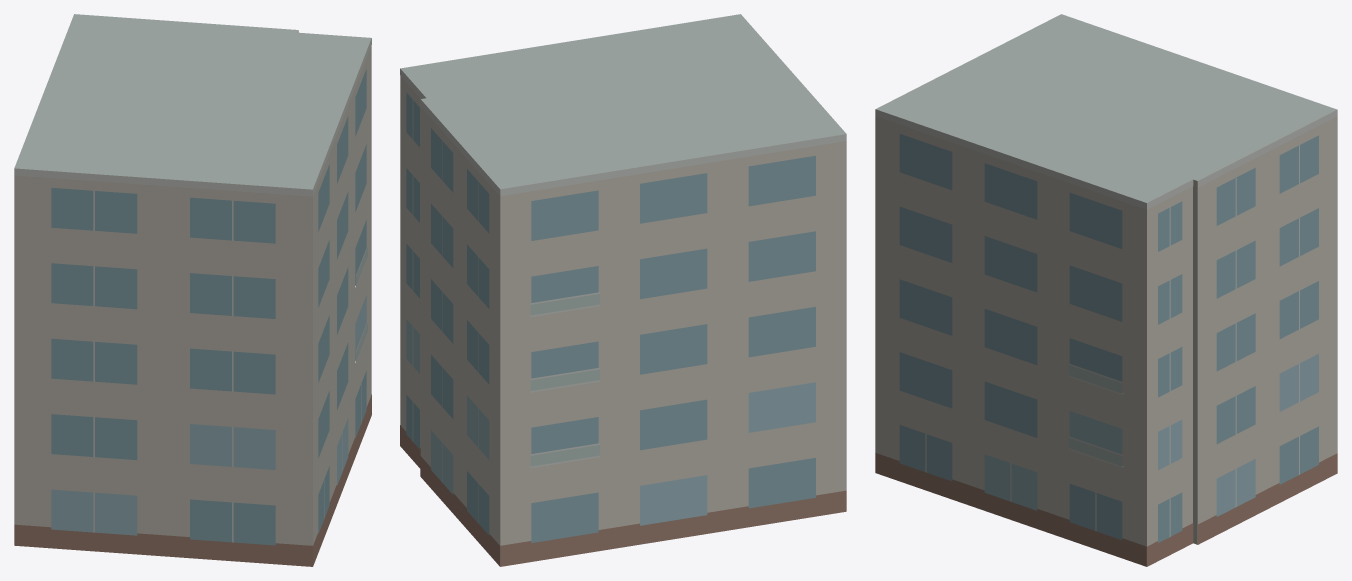
File: survey-upis-32944124.glb
3 views of the same model, side by side, from view 1: azimuth 30°, elevation 25°; view 2: azimuth 150°, elevation 25°; view 3: azimuth 270°, elevation 25° (orthographic). The views are drawn at different scales.
Parts seen in each view (by area): view 1: survey-upis-32944124.tmp; view 2: survey-upis-32944124.tmp; view 3: survey-upis-32944124.tmp.
Boxes of the visible parts, left/top/right/bottom form: survey-upis-32944124.tmp: left=14, top=14, right=371, bottom=566; survey-upis-32944124.tmp: left=400, top=14, right=846, bottom=566; survey-upis-32944124.tmp: left=875, top=14, right=1337, bottom=566.
Bounding box in the file's own units: 14.83 × 13.3 × 15.32.
